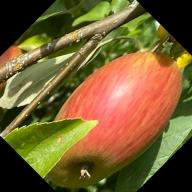Apples: (19, 25, 192, 192), (0, 43, 33, 107)
